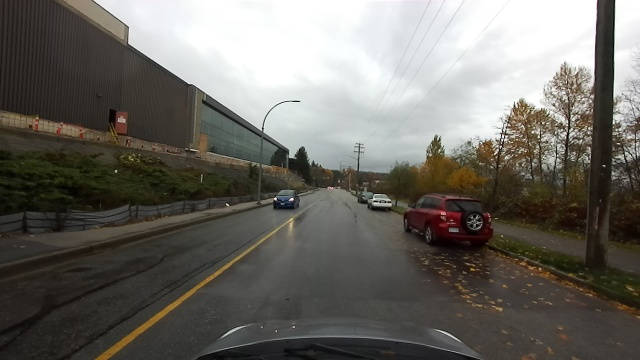car: (401, 192, 495, 249), (270, 187, 300, 211), (365, 191, 395, 212), (356, 190, 372, 203)
